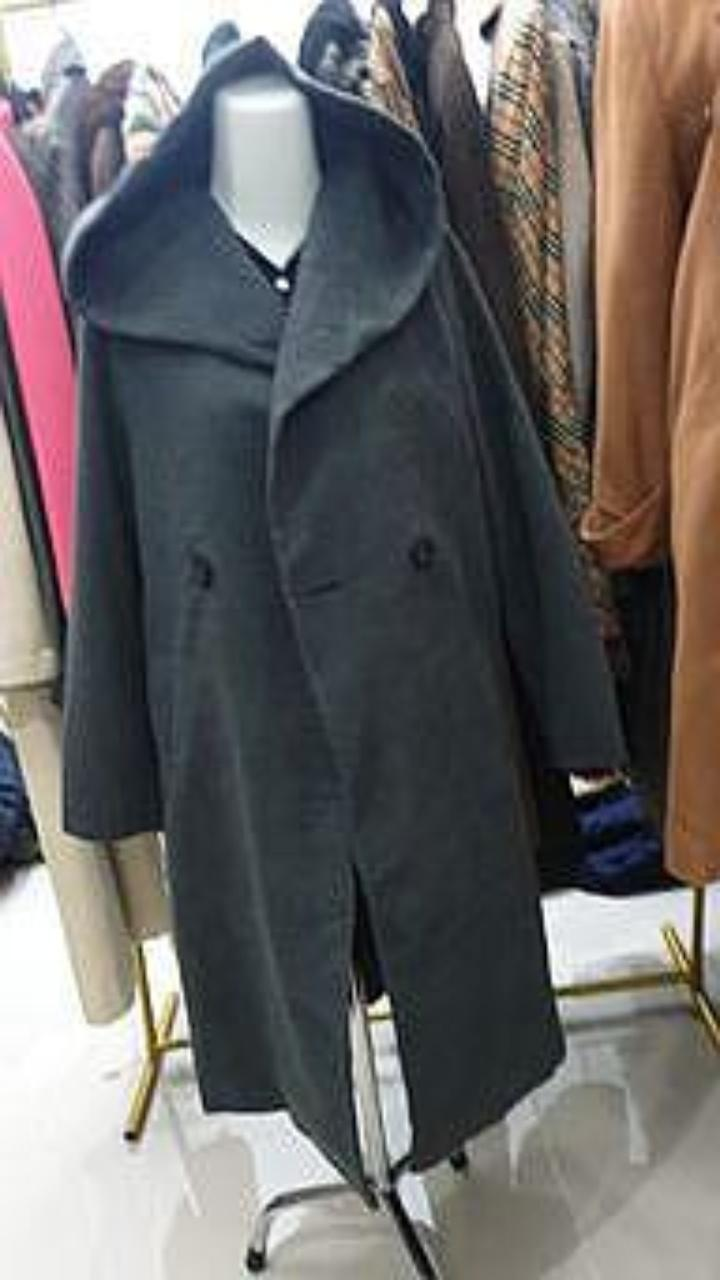Coat: (66, 41, 622, 1182), (0, 411, 168, 1022)
